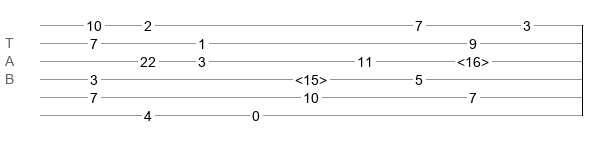0: (252, 108, 260, 118)
1: (198, 36, 206, 46)
10: (86, 18, 102, 28), (303, 90, 319, 100)
11: (357, 54, 373, 64)
2: (144, 18, 152, 28)
22: (140, 54, 156, 64)
3: (90, 72, 98, 82), (198, 54, 206, 64), (523, 18, 531, 28)
4: (144, 108, 152, 118)
5: (415, 72, 423, 82)
7: (90, 90, 98, 100), (90, 36, 98, 46), (415, 18, 423, 28), (469, 90, 477, 100)
9: (469, 36, 477, 46)
harmonic: (295, 72, 327, 82), (457, 54, 489, 64)
